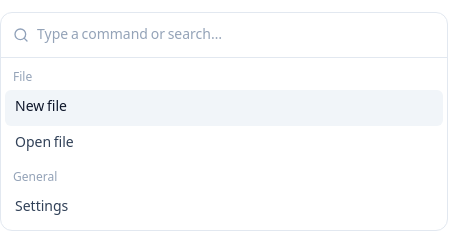
Test: Command › filters by label and keywords
In the dropdown: (236, 35) left=37, top=13, right=435, bottom=57, type "create"
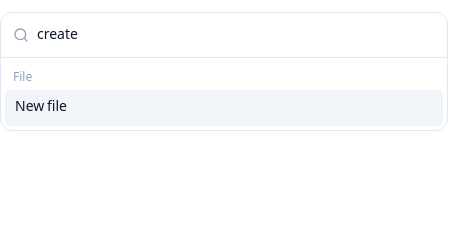
Expected: the option "New file" is shown, left=5, top=90, right=443, bottom=126
Now the option "Settings" is gone
